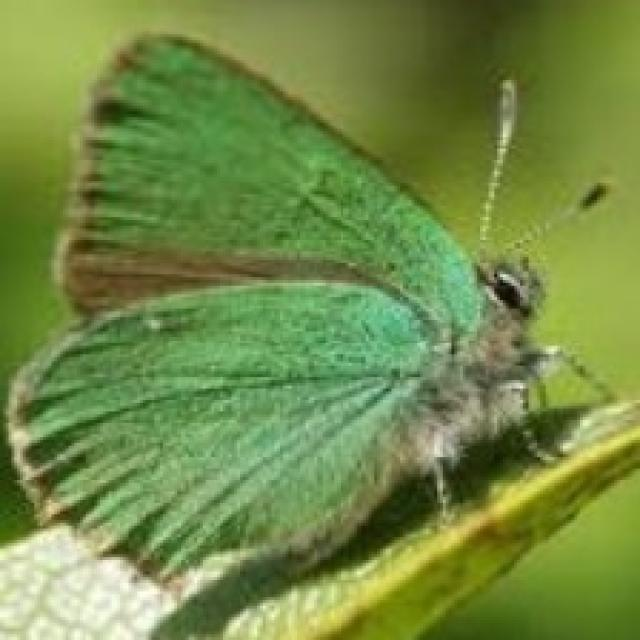butterfly: (26, 26, 623, 594)
